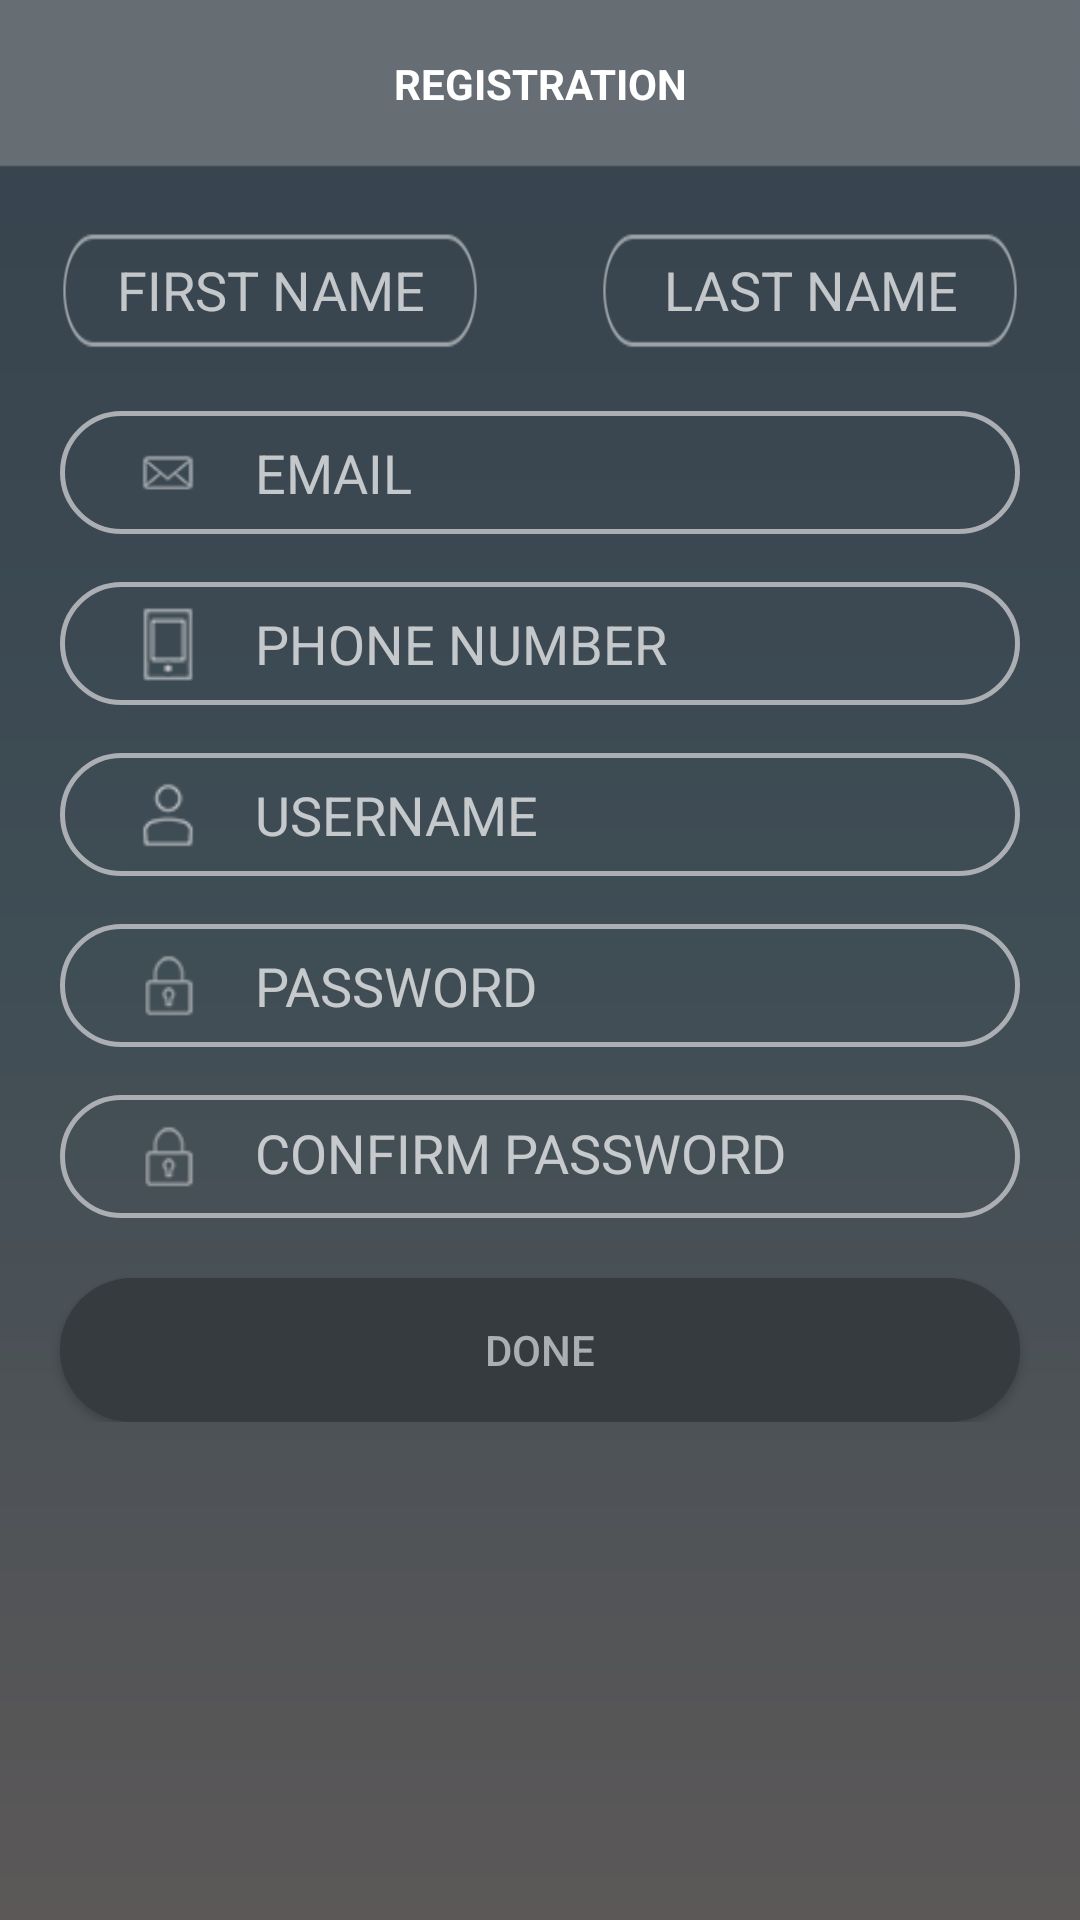

Named icons in this screenshot (1080 × 1920) and their bounding boxes, [x1,y1,x2,y2]:
mobile: [143,608,193,681]
